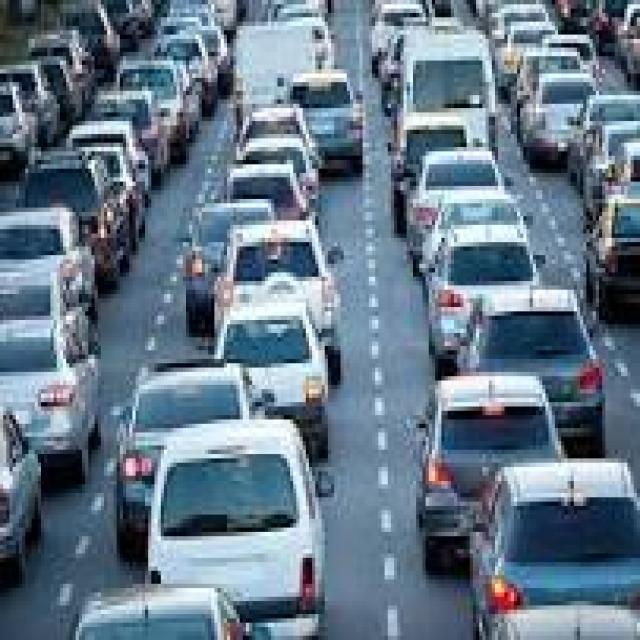high_traffic: (53, 54, 594, 584)
